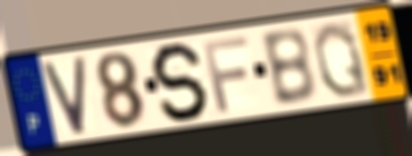8: (94, 48, 148, 131)
B: (257, 25, 319, 109)
F: (200, 33, 251, 115)
Q: (311, 19, 373, 100)
S: (149, 40, 212, 123)
V: (39, 53, 88, 139)
